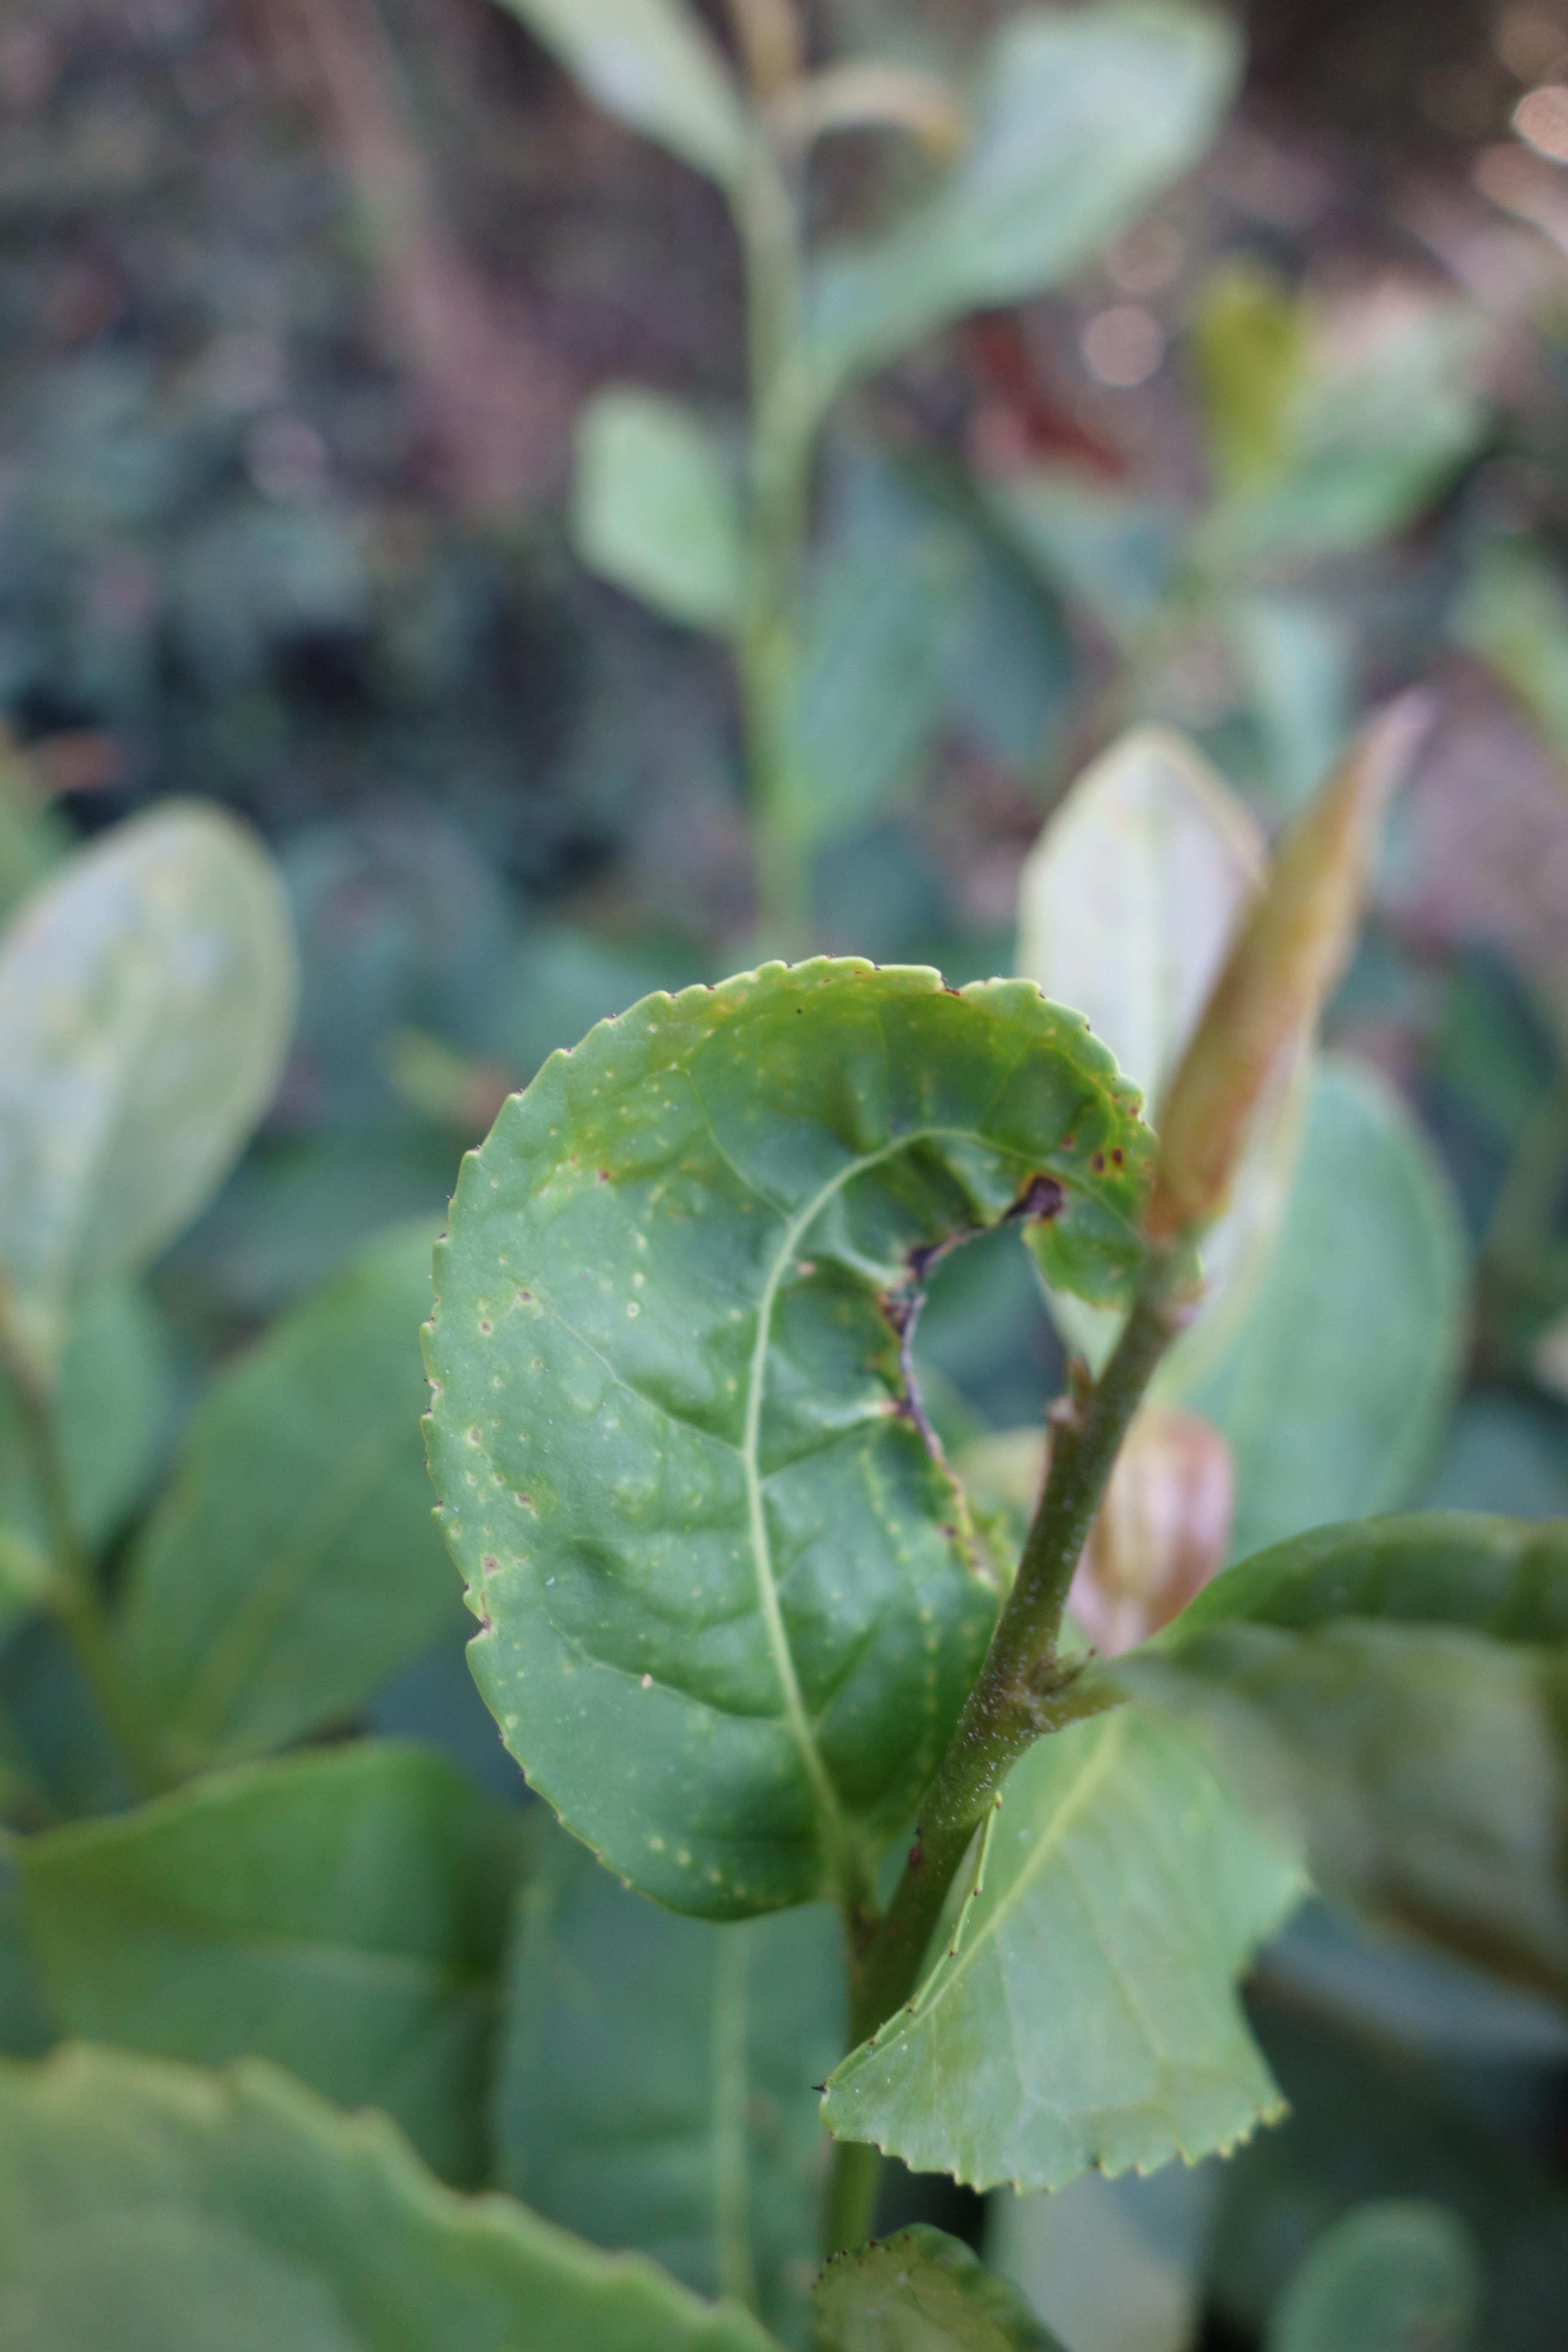chihuo_high: (415, 950, 1164, 1925)
